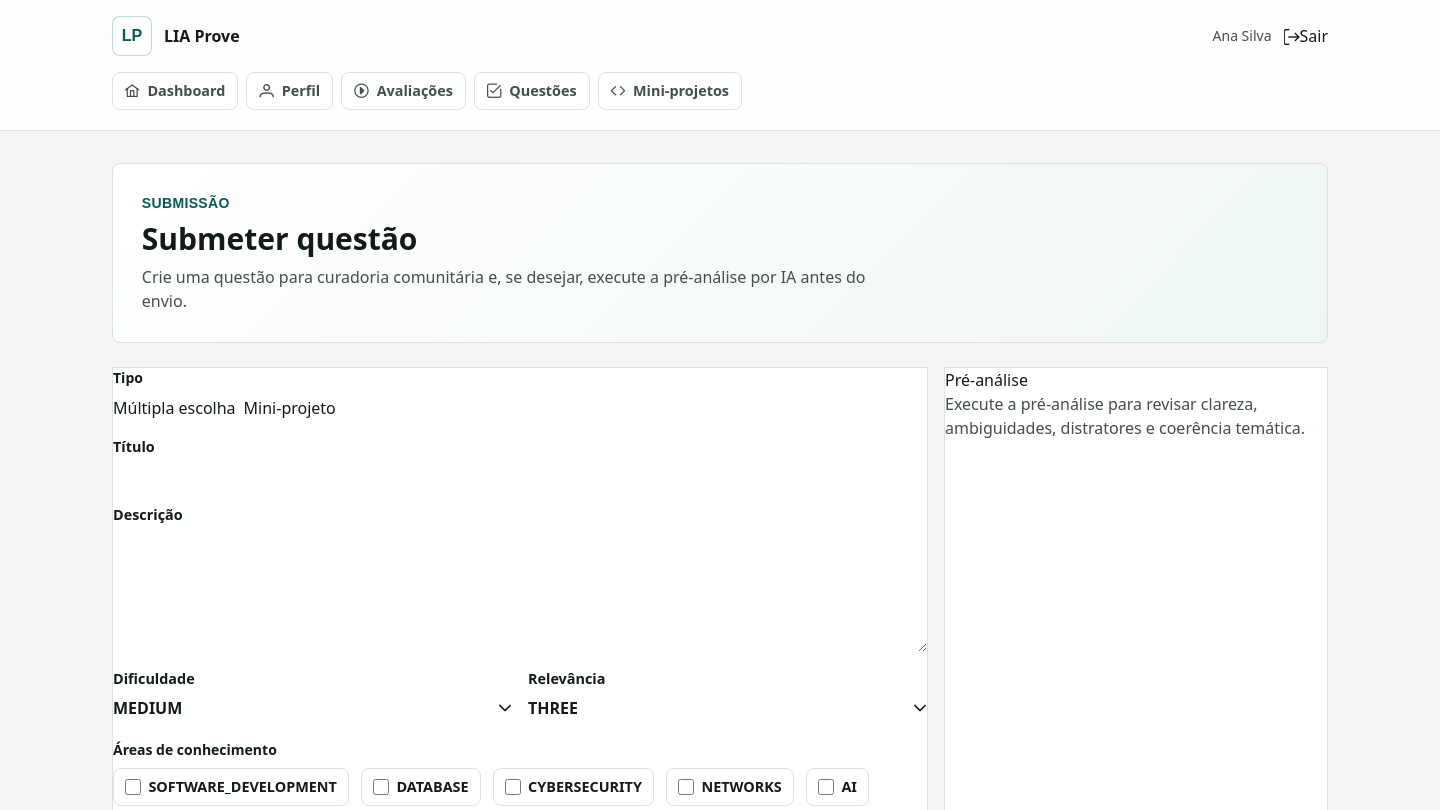
Test: QuestionSubmissionView › validates the description length before pre-analysis
In the field with test id "question-title": point(520, 476) 113,464 -> 927,488, type "Mini-projeto para API REST"
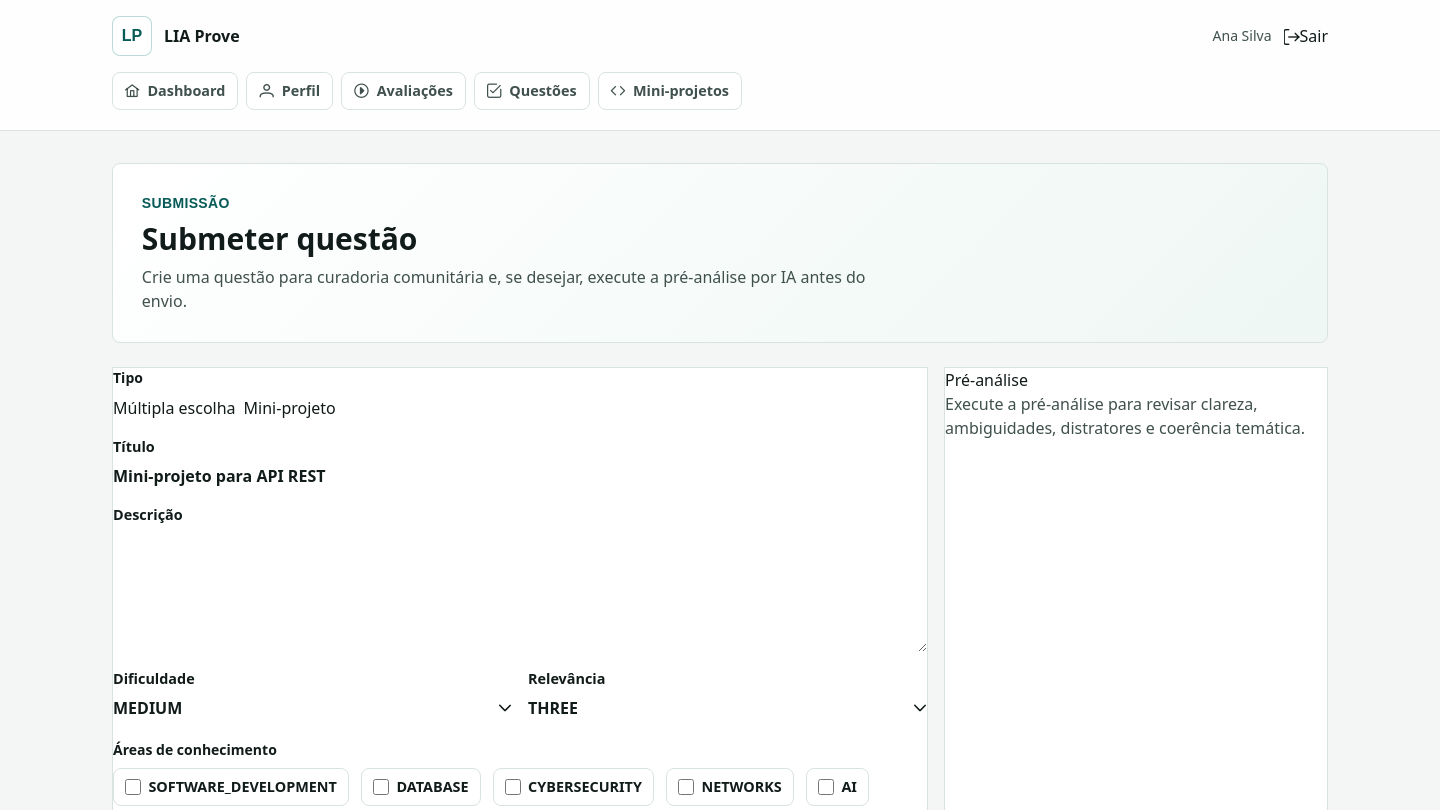
In the text box with test id "question-description": point(520, 592) 113,532 -> 927,652, type "Curta"
(page scrolled)
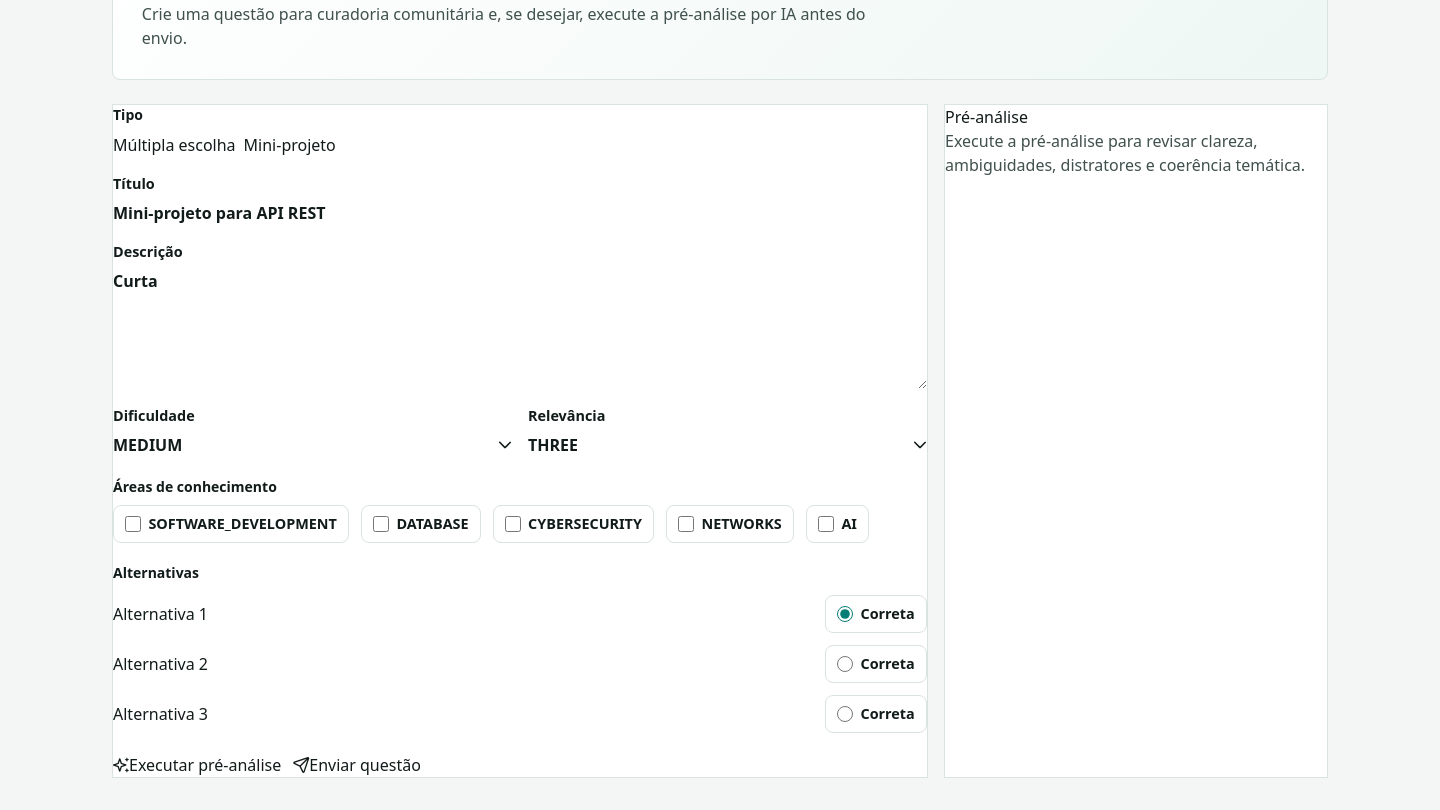
Click the button with test id "pre-analyze-question": point(197, 764) 113,752 -> 281,776
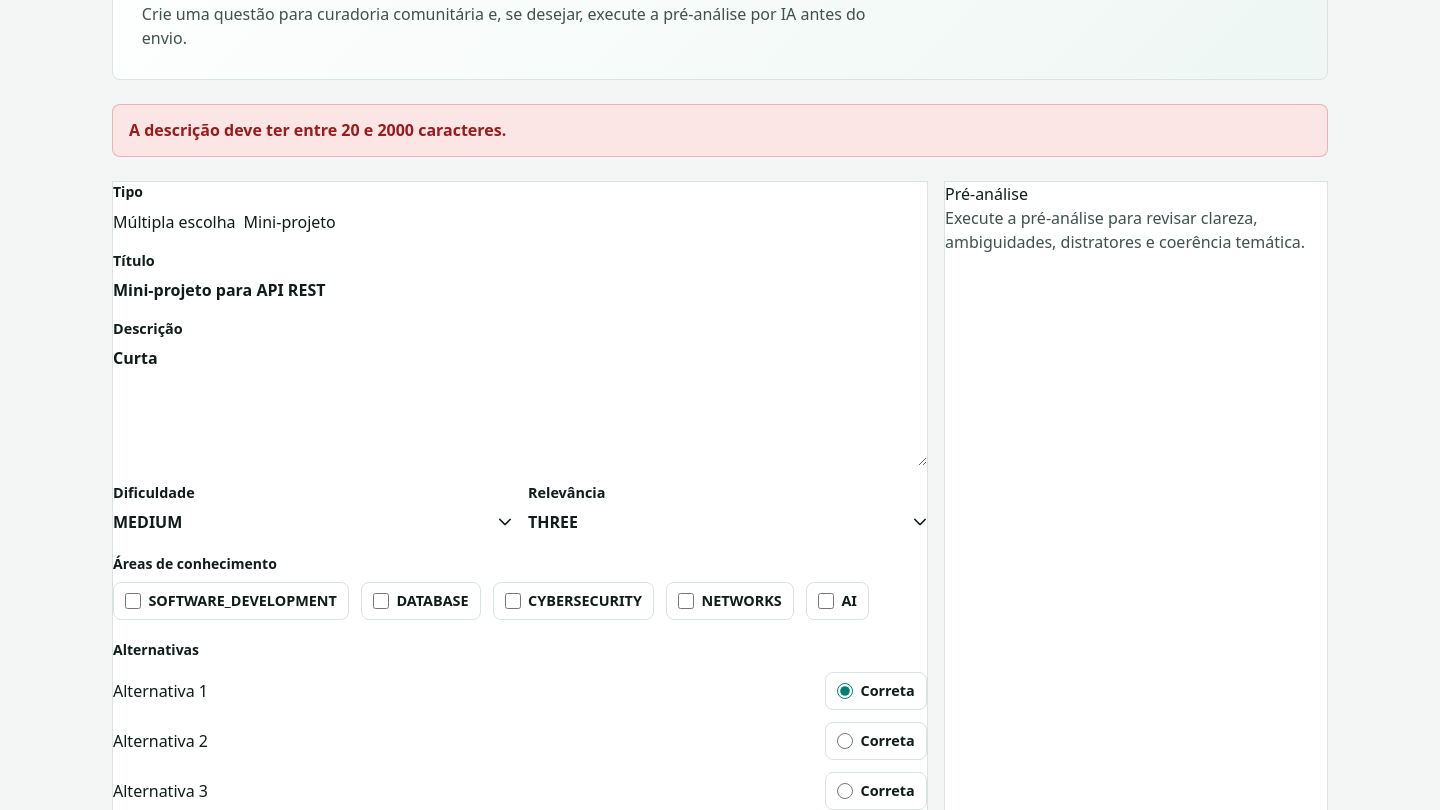
Check: the text "A descrição deve ter entre 20 e 2000 caracteres." is shown, box 112,104 -> 1328,157
